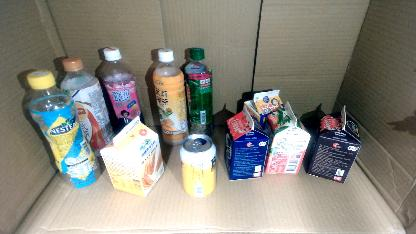Can: (180, 134, 216, 199)
Plastic Bottle: (26, 71, 100, 188), (60, 56, 116, 158), (100, 46, 146, 136), (152, 47, 190, 144), (183, 47, 215, 141)
